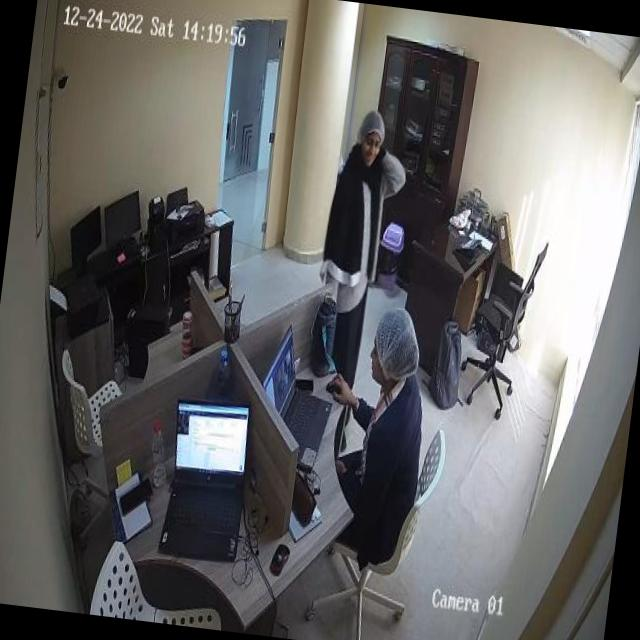hairnet: (372, 305, 423, 374), (358, 110, 388, 142)
